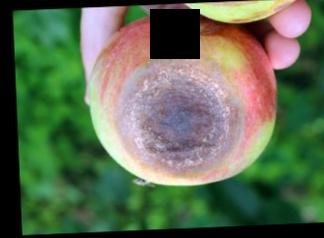rotten apple: (88, 12, 286, 191)
